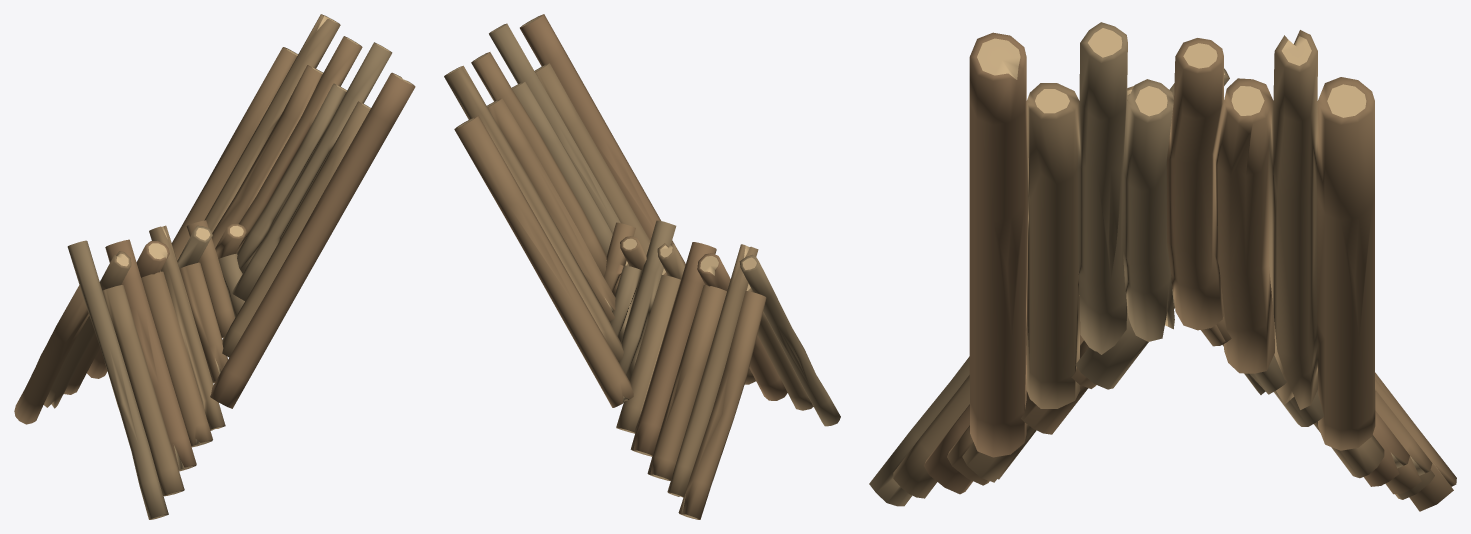
File: rpgpp_ag_roof_01e_6x5x3_half.fbx
The picture shows the model from 3 angles, left to right: view 1: azimuth 30°, elevation 25°; view 2: azimuth 150°, elevation 25°; view 3: azimuth 270°, elevation 25°; orthographic projection. The views are drawn at different scales.
Parts seen in each view (by area): view 1: rpgpp_ag_roof_01e_6x5x3_half; view 2: rpgpp_ag_roof_01e_6x5x3_half; view 3: rpgpp_ag_roof_01e_6x5x3_half.
Boxes of the visible parts, x1,y1,x2,y2 form: rpgpp_ag_roof_01e_6x5x3_half: (14,14,415,519); rpgpp_ag_roof_01e_6x5x3_half: (444,14,840,519); rpgpp_ag_roof_01e_6x5x3_half: (869,22,1456,511).
Size of the model in its own units: 5.07 by 6.09 by 4.35.
